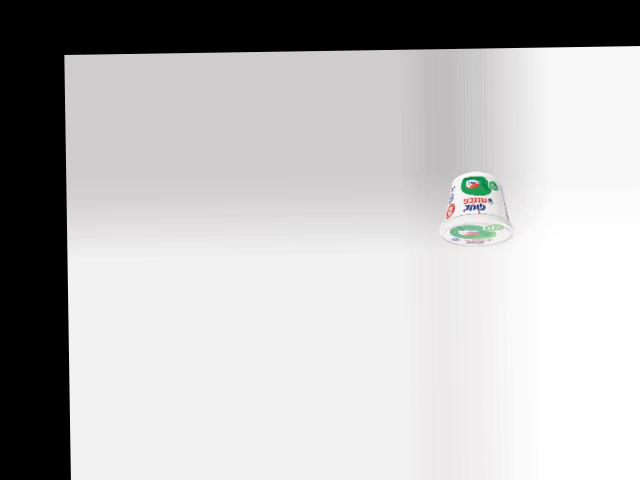cotage: (436, 171, 515, 248)
